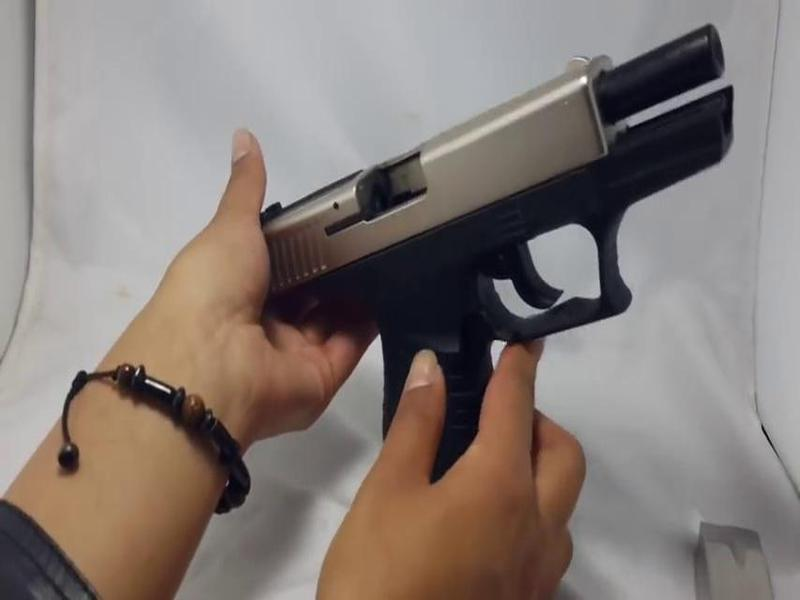Pistola: (264, 15, 753, 539)
